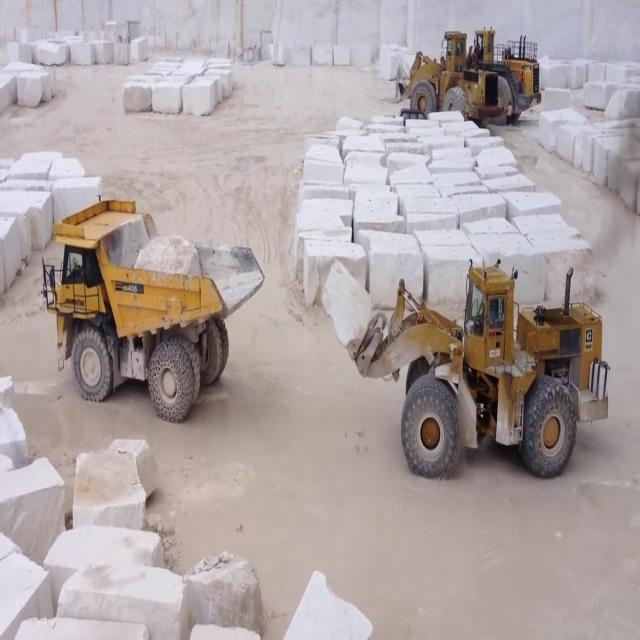Dump Truck: (42, 177, 264, 423)
Loader: (334, 248, 612, 480), (396, 28, 510, 114), (458, 18, 542, 127)
